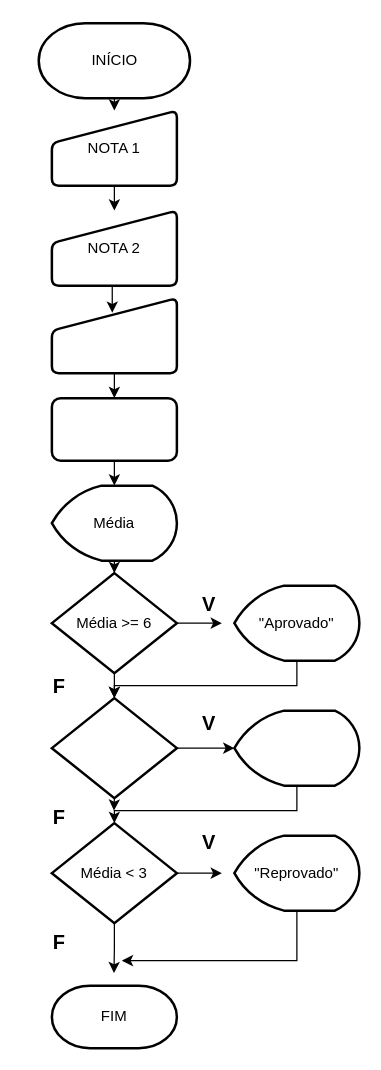
Some shapes in this 381 by 1070 pixel diagram are drawn without their labels. Each missing label, with the centre of its shape:
"Exame": pixel 296 747
Média = Nota 1+ Nota 2 + Nota 3: pixel 114 428
Média >=3 Média < 6: pixel 114 747
NOTA 3: pixel 114 335
